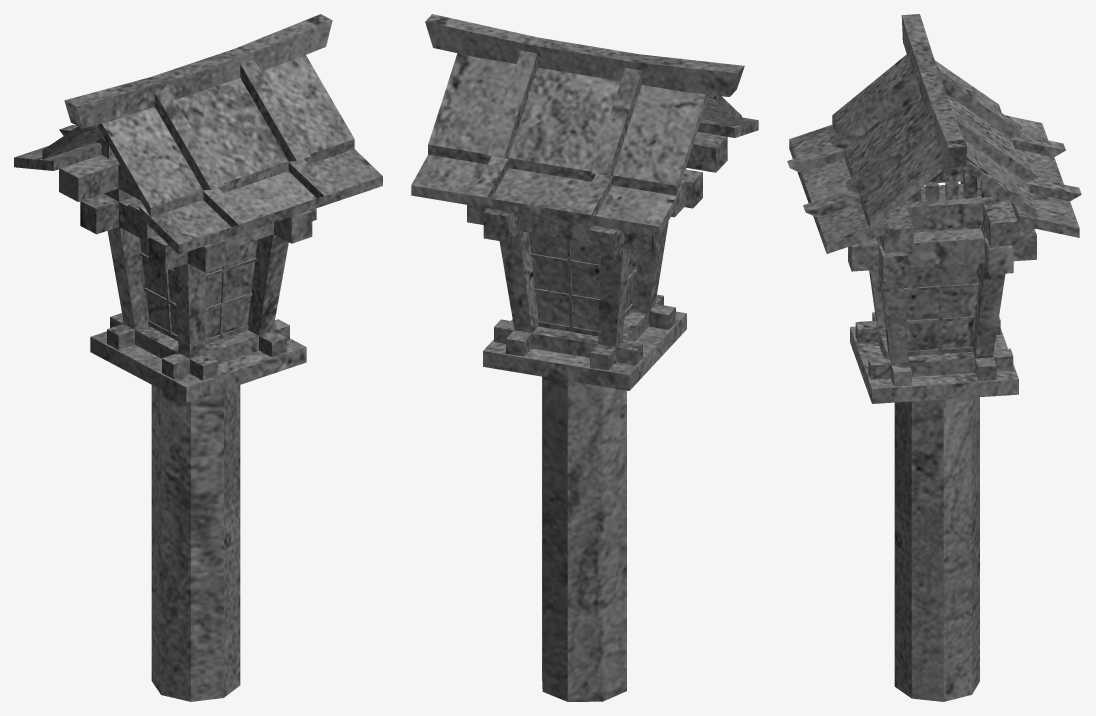
The model's file is lantern.fbx.
3 views of the same model, side by side, from view 1: azimuth 30°, elevation 25°; view 2: azimuth 150°, elevation 25°; view 3: azimuth 270°, elevation 25° (orthographic). The views are drawn at different scales.
Visible parts, largest first — view 1: R1; view 2: R1; view 3: R1.
Boxes of the visible parts, x1,y1,x2,y2 form: R1: [14, 14, 382, 701]; R1: [411, 14, 758, 701]; R1: [787, 14, 1081, 701].
Bounding box in the file's own units: 23.08 × 48.55 × 21.48.
Materials: 1 (1 with a texture image).
